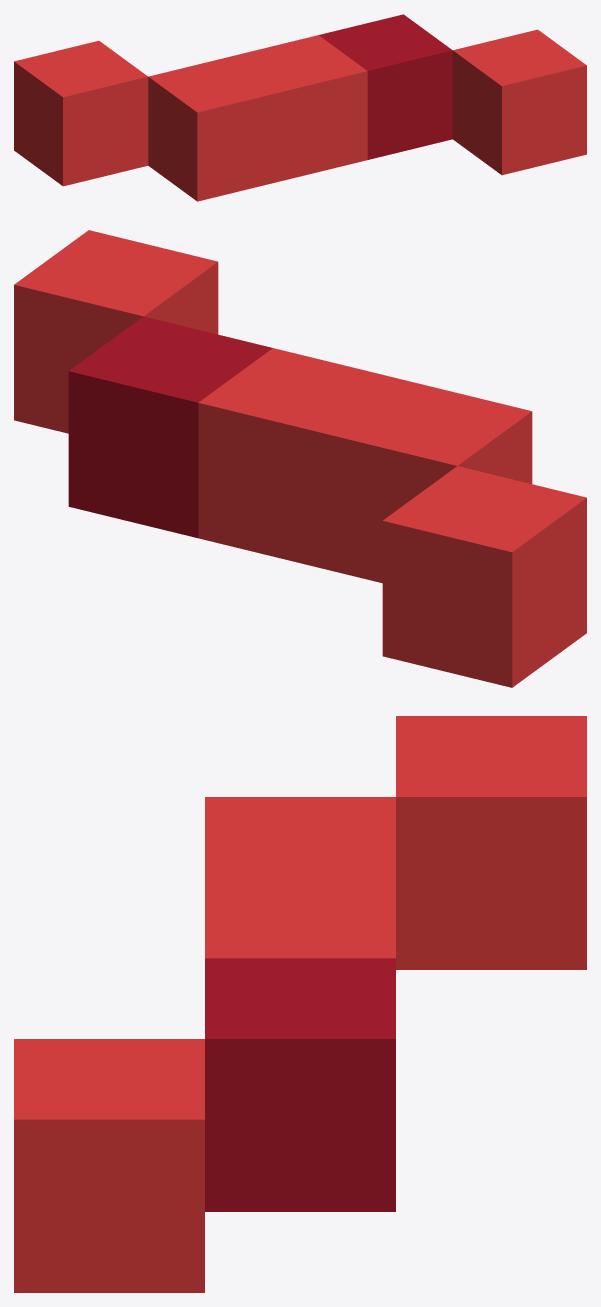
Rendered from LawnModel-4.obj.
The picture shows the model from 3 angles, top to bottom: view 1: azimuth 30°, elevation 25°; view 2: azimuth 150°, elevation 25°; view 3: azimuth 270°, elevation 25°; orthographic projection. The views are drawn at different scales.
Visible parts, largest first — view 1: LawnModel-4; view 2: LawnModel-4; view 3: LawnModel-4.
Part boxes in pixels (x1,y1,x2,y2): LawnModel-4: (14, 14, 586, 201); LawnModel-4: (14, 230, 586, 687); LawnModel-4: (14, 716, 586, 1292).
Size of the model in its own units: 5 by 1 by 3.
Materials: 1 (1 with a texture image).
